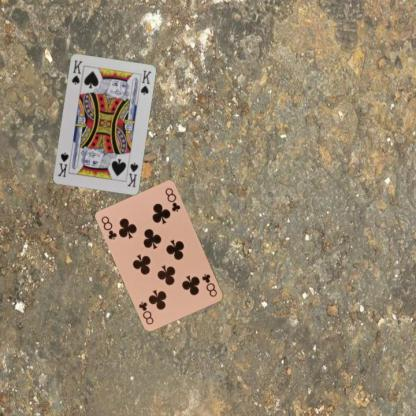8c: (99, 214, 118, 241), (200, 271, 218, 298)
Ks: (69, 57, 84, 86), (125, 160, 139, 188)
